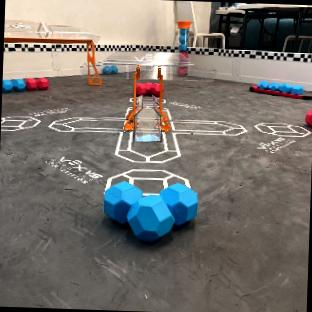V5_BLUE: (103, 182, 197, 241), (258, 82, 302, 95), (102, 65, 118, 74)
V5_RED: (136, 82, 160, 96), (26, 78, 49, 91), (305, 109, 312, 126)
